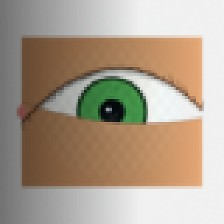hemorrhage_spot: (78, 89, 136, 136)
